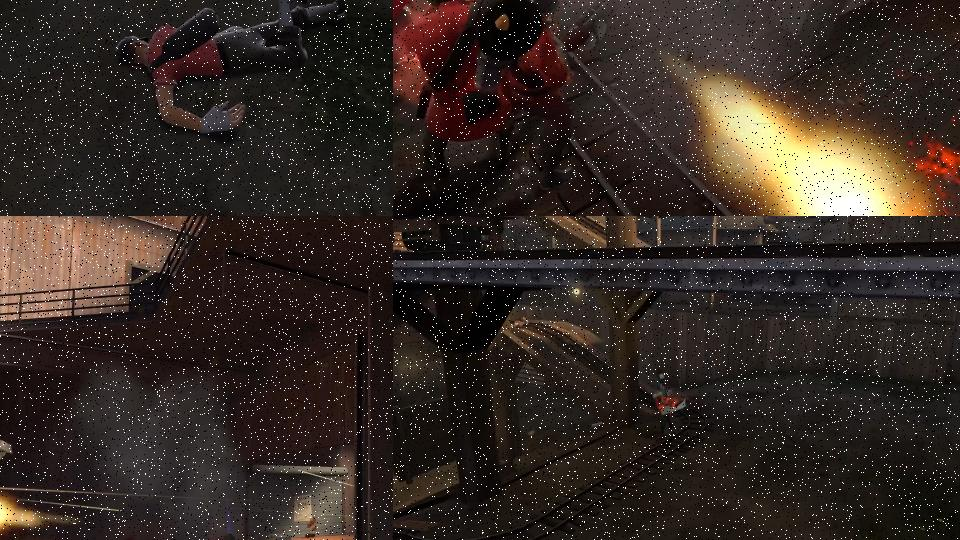Enemy: (113, 0, 350, 137), (497, 0, 644, 195), (395, 0, 545, 180), (651, 369, 687, 440)
